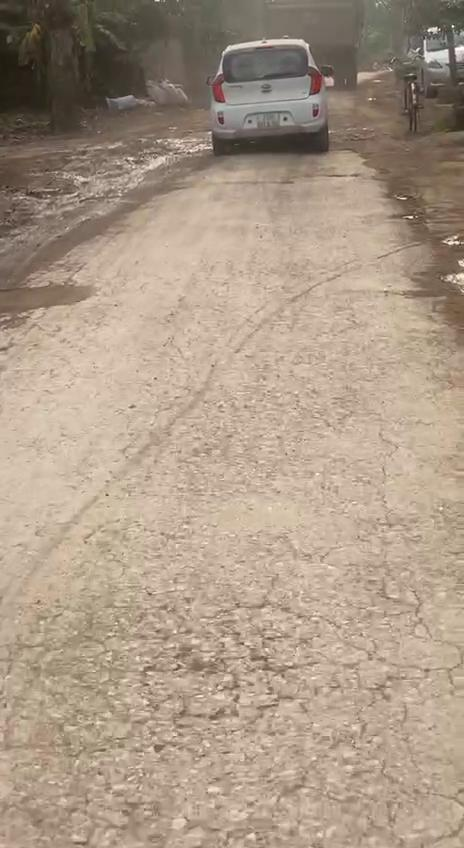pothole: (0, 276, 105, 326)
